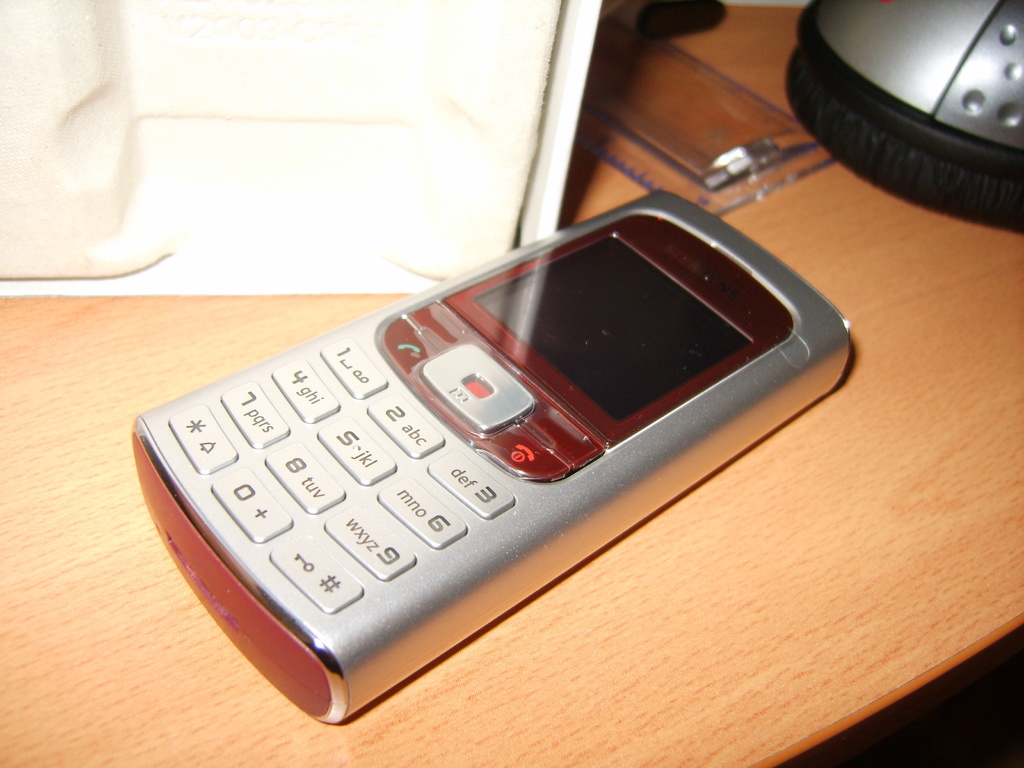mobile phone: (128, 186, 851, 722)
